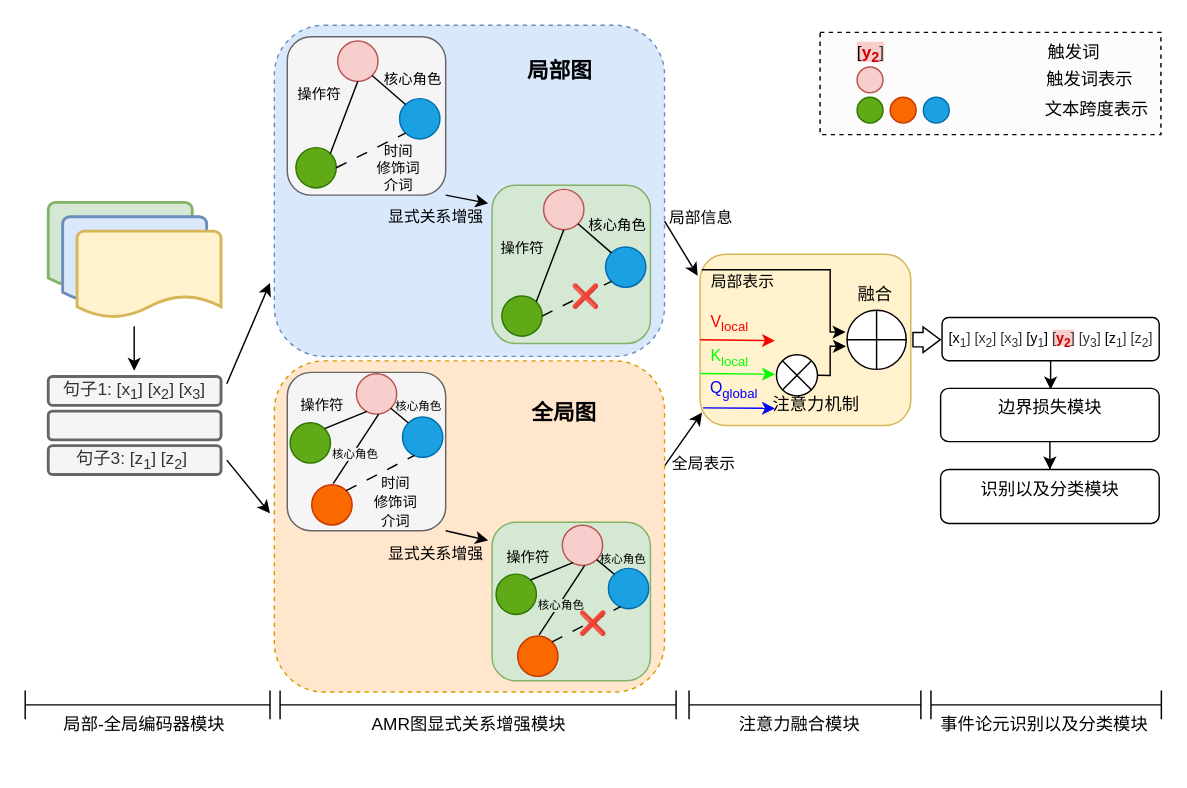
Image size: 1187x788. Some labels were removed from this diagram. Each missing label, with the centre of its shape:
句子2: [y 1 ] [ y 2 ] [y 3 ]: the point at 134,425
文档 1: the point at 148,273
